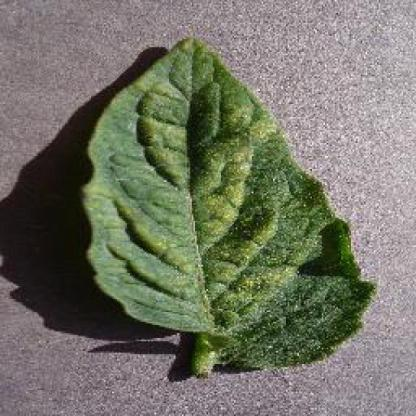Tomato_Spider_Mites: (84, 36, 373, 364)
